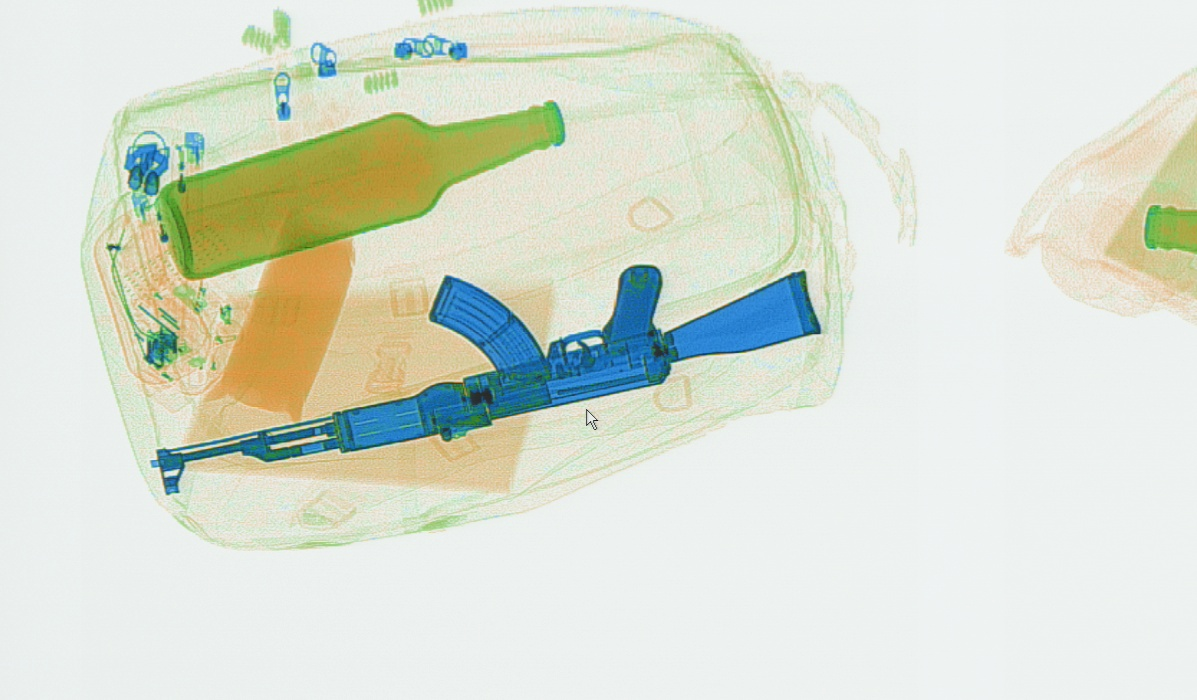lighter: (121, 179, 182, 280), (162, 127, 205, 252)
